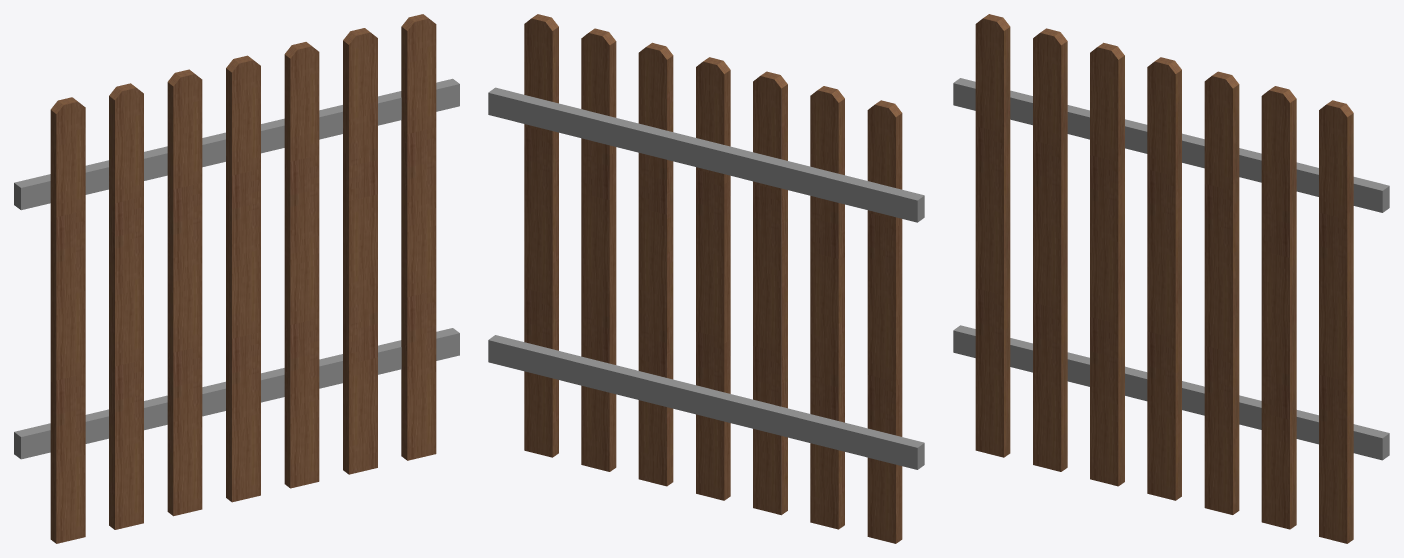
File: BarriereAccro.fbx
3 renders of one model, left to right at view 1: azimuth 30°, elevation 25°; view 2: azimuth 150°, elevation 25°; view 3: azimuth 330°, elevation 25°, orthographic.
Parts seen in each view (by area): view 1: Barriere.001; view 2: Barriere.001; view 3: Barriere.001.
Boxes of the visible parts, <box> form: Barriere.001: <box>14,14,459,543</box>; Barriere.001: <box>488,14,924,543</box>; Barriere.001: <box>953,14,1389,543</box>.
Bounding box in the file's own units: 104 × 100 × 6.76.
